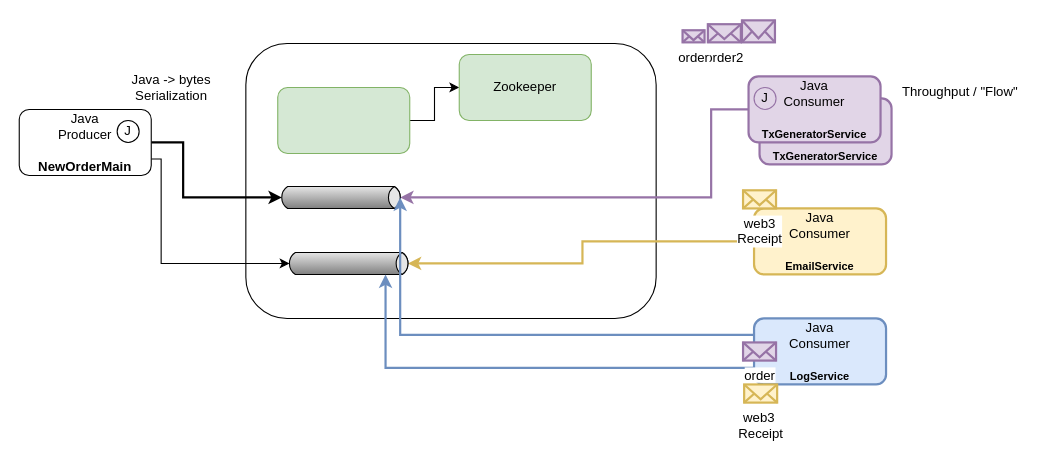
The diagram is 1044 pixels wide and 461 high, and some of its shapes have lost their labels. The shapes that lost their labels are listed below. From the top down, each one's centre as x and y in pixels, then its label:
At (758,31): "order1".
At (343,119): "Kafka 9092".
At (340,196): "Topic / INCOMING_TXS".
At (348,262): "Topic / STATE_UPDATES".
